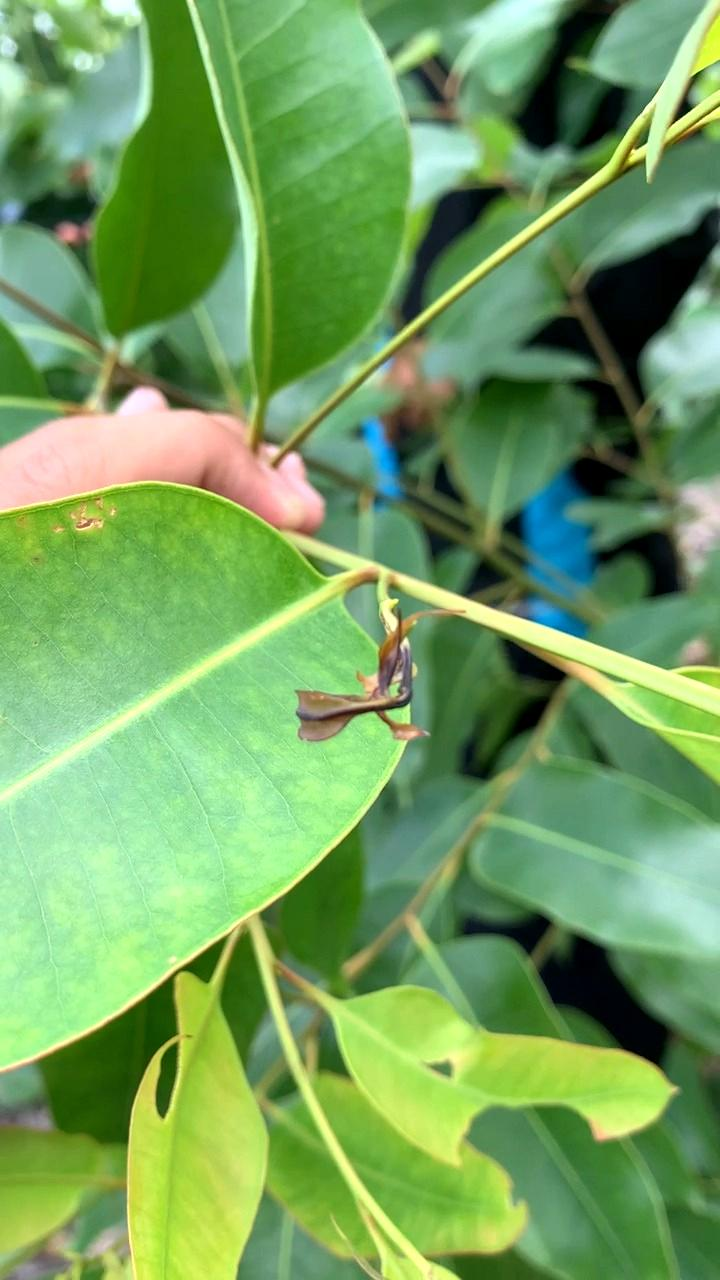Helopeltis-Withered Sprout: (303, 603, 475, 753)
